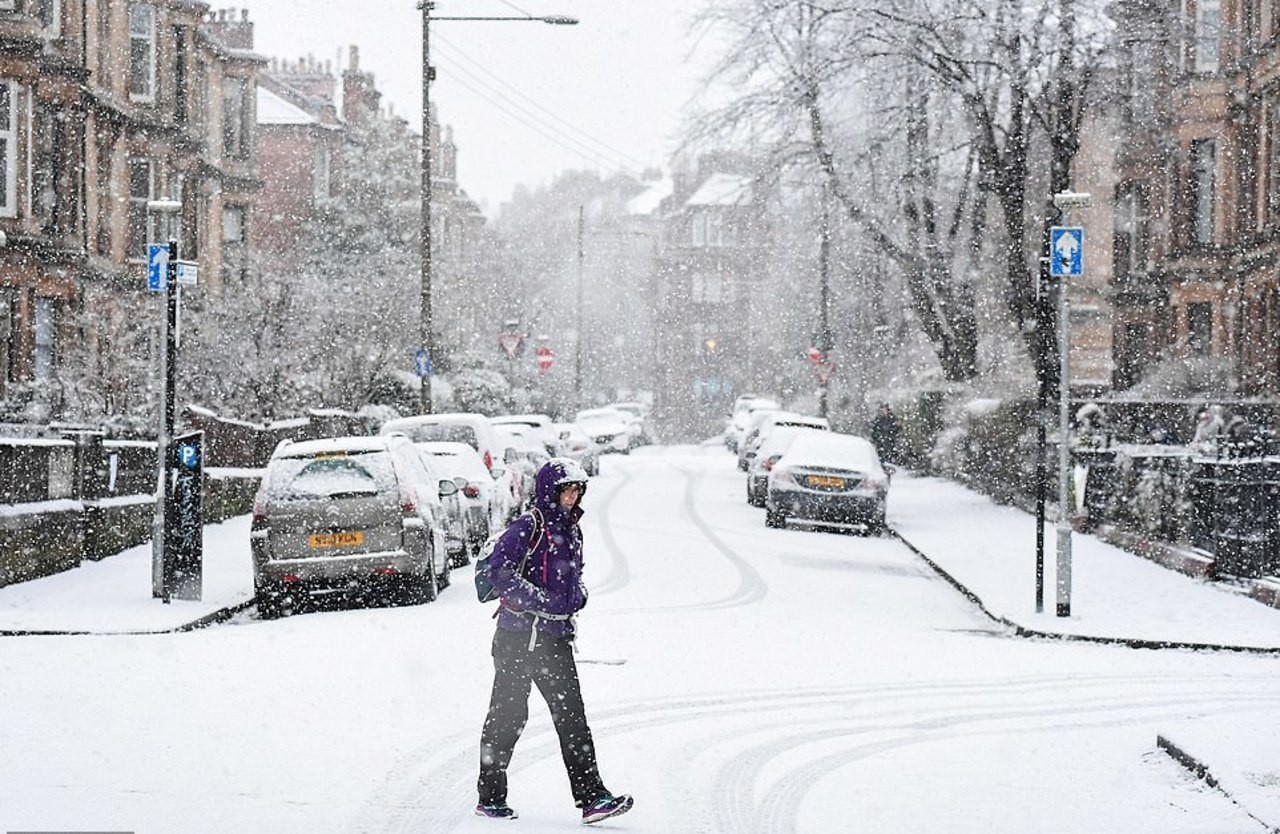car: (255, 435, 451, 614), (387, 424, 507, 559), (760, 427, 890, 534), (398, 416, 513, 520), (571, 407, 642, 455), (750, 432, 781, 498), (561, 423, 598, 476), (519, 428, 544, 504), (742, 424, 762, 468)
person: (468, 462, 629, 824)
